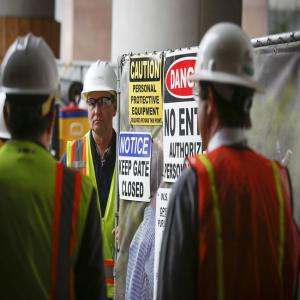white: (197, 22, 257, 139), (3, 36, 60, 141), (84, 61, 119, 137)
